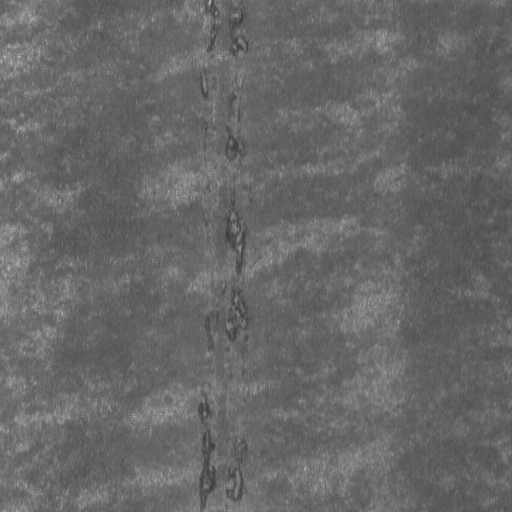xingxingliewen: (195, 1, 251, 511)
